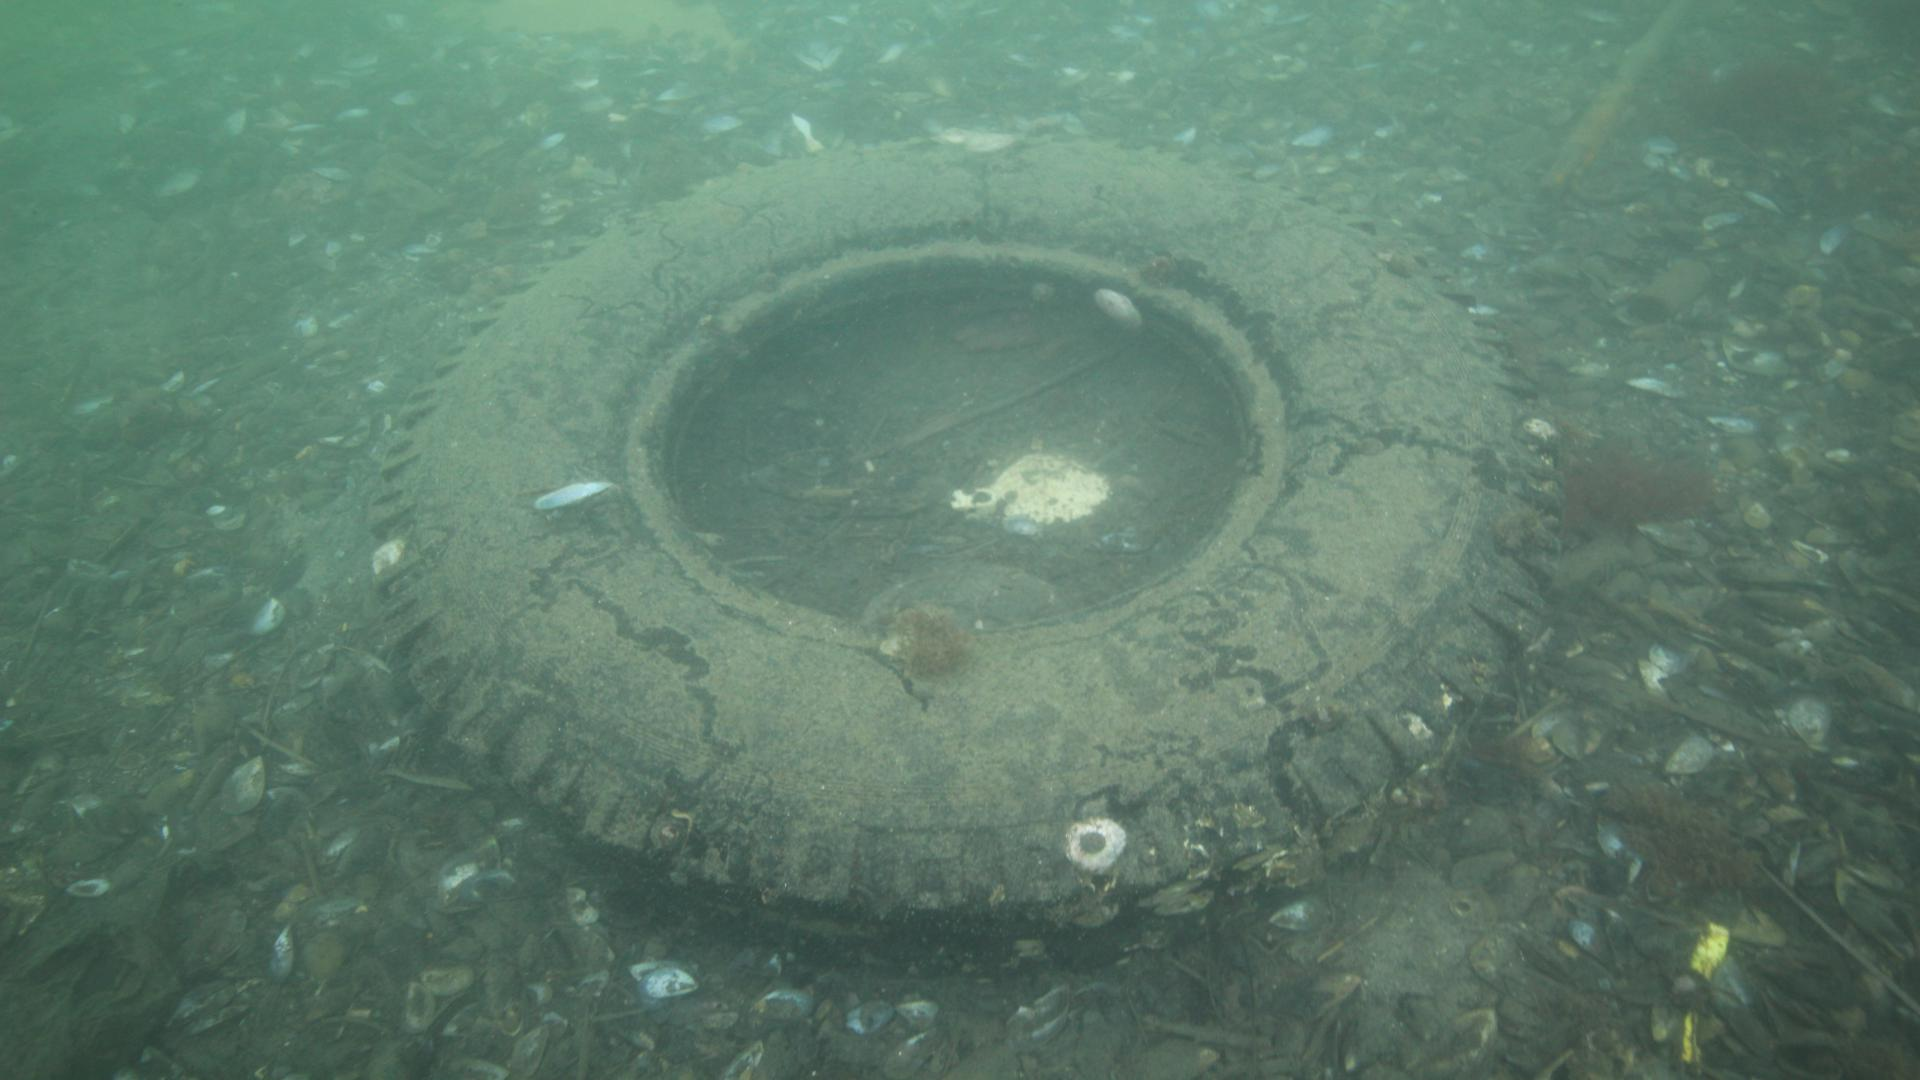tire: (371, 136, 1563, 972)
